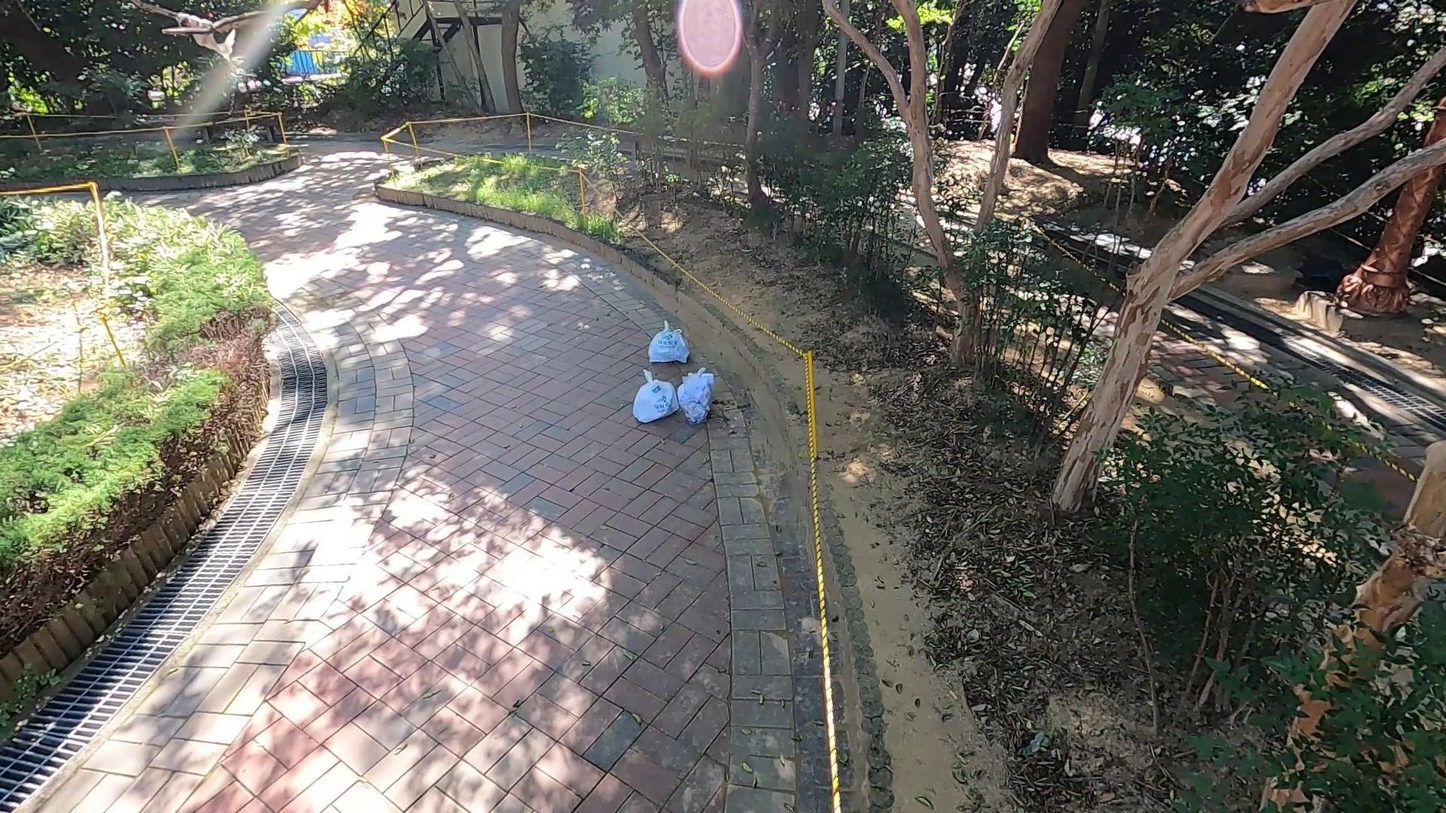trash: (633, 367, 679, 430), (675, 364, 716, 426), (648, 318, 692, 366)
